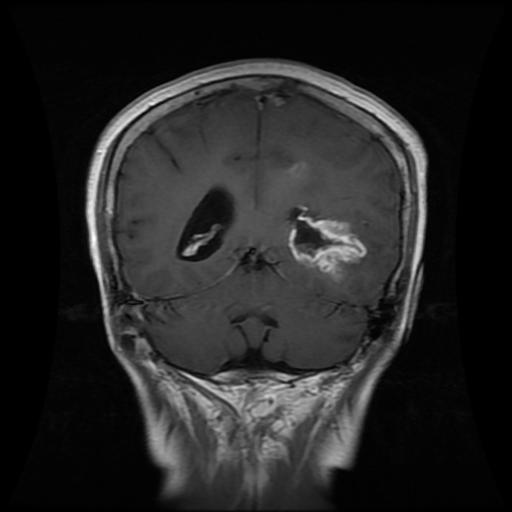Gliomia_tumour: (288, 205, 366, 279)
